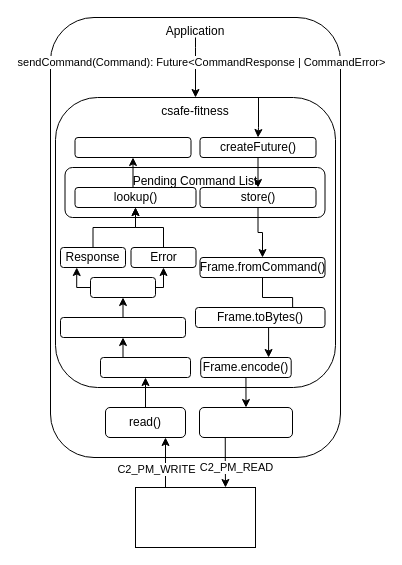
Image size: 402x565. Some labels were removed from this diagram. The centre of each missing label's shape, as x and y in pixels:
Frame.decode(): the point at 145,367
PM5: the point at 195,517
resolveFuture(): the point at 132,147
Response.fromBytes(): the point at 123,327
validate: the point at 123,287
write(): the point at 245,422
